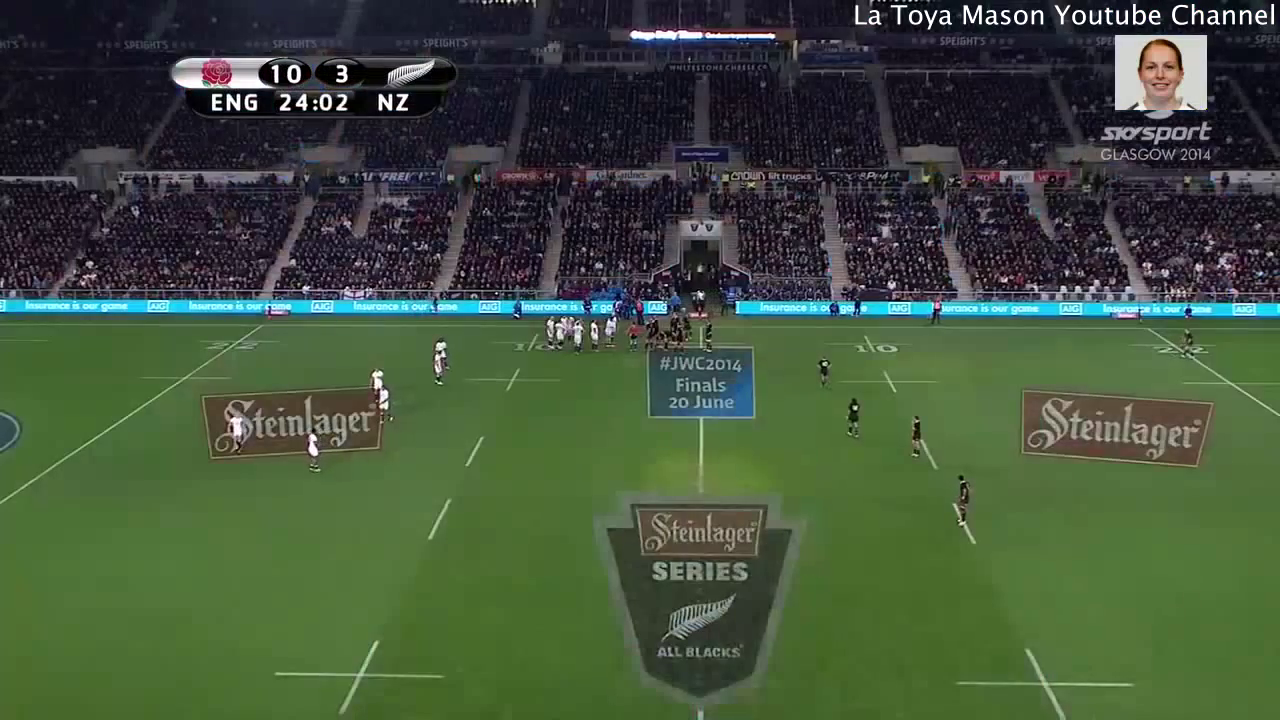10_metre: (948, 646, 1144, 720), (270, 636, 448, 716), (461, 366, 565, 397), (835, 368, 941, 398), (822, 333, 916, 356), (483, 329, 569, 353)
player: (301, 427, 328, 472), (840, 393, 864, 443), (221, 411, 248, 455), (955, 472, 975, 531), (374, 381, 395, 425), (366, 363, 386, 405), (908, 411, 925, 458), (431, 346, 449, 387), (434, 334, 453, 370), (623, 320, 642, 353), (816, 354, 832, 392), (569, 323, 587, 356), (601, 314, 616, 348), (544, 314, 556, 354), (673, 321, 688, 353), (588, 320, 602, 353), (1178, 328, 1192, 360), (553, 319, 566, 348), (681, 313, 693, 344), (703, 320, 713, 354), (644, 319, 654, 350), (568, 314, 575, 342), (560, 316, 565, 335)
